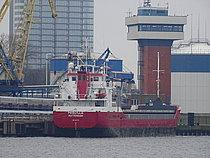Ship: (49, 45, 184, 136)
